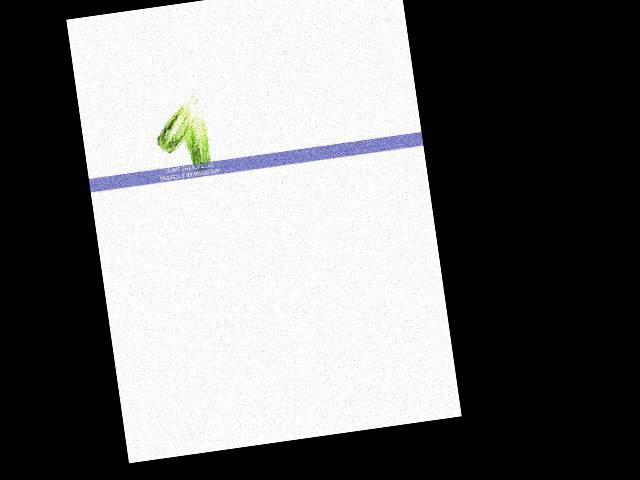lettuce: (152, 87, 205, 157)
